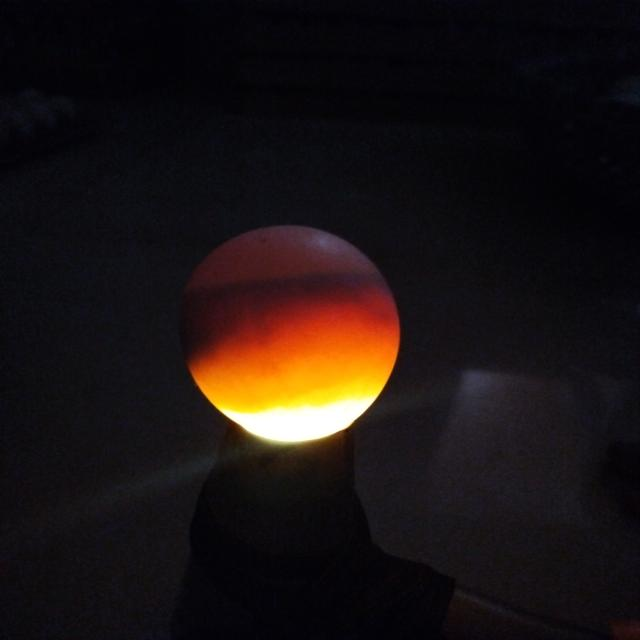Area Infectada: (176, 273, 395, 365)
